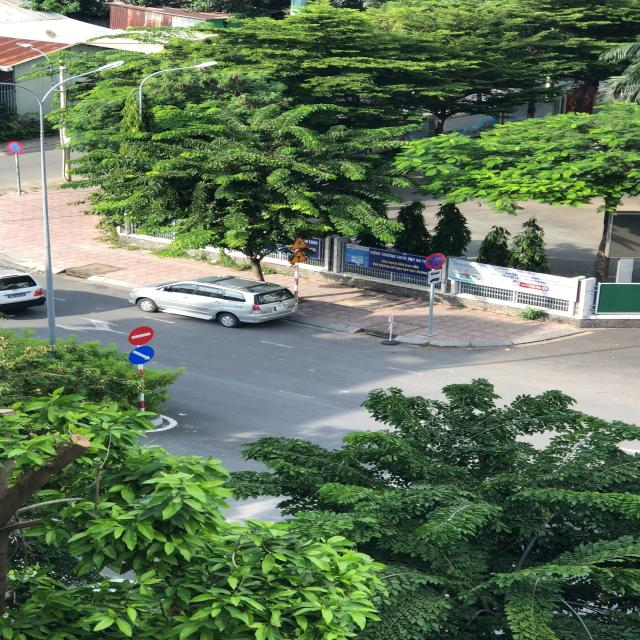Bien bao cam di nguoc chieu: (125, 326, 156, 346)
Bien bao cam dung xe va do xe: (423, 252, 448, 270)
Bien bao duong giao nhau: (287, 250, 311, 264)
Bien bao duong nguoi di bo cat ngang: (286, 236, 310, 250)
Bien bao huong phai di vong chuong ngai vat: (127, 346, 159, 366)
